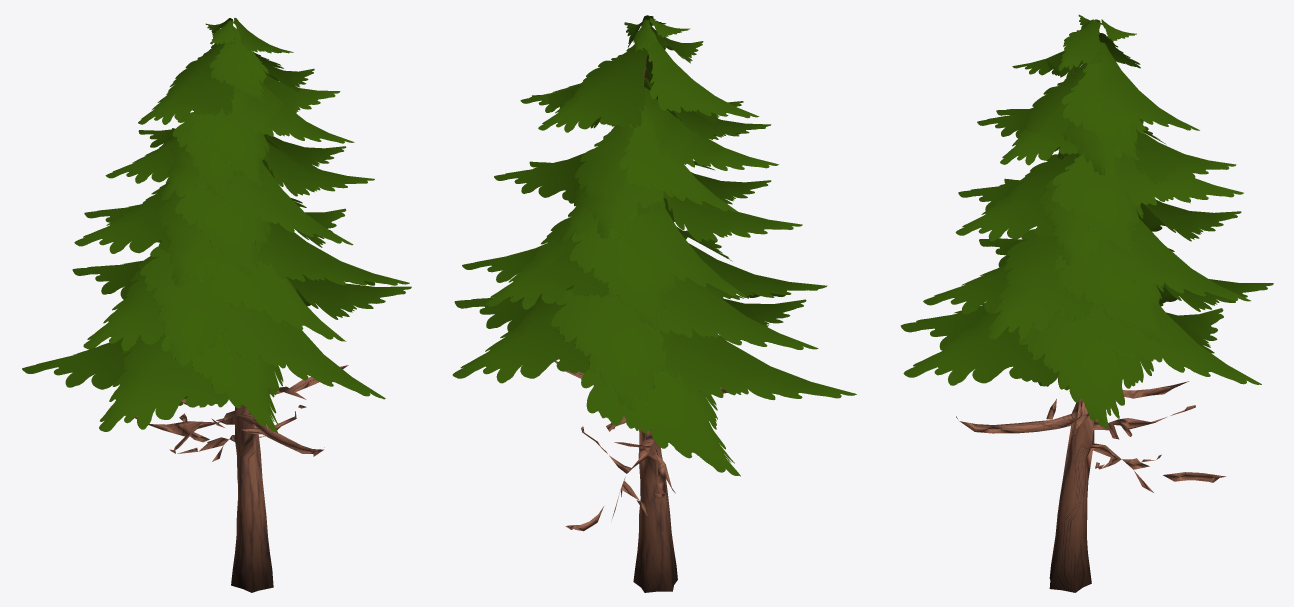
Rendered from tree-pine.glb.
The picture shows the model from 3 angles, left to right: view 1: azimuth 30°, elevation 25°; view 2: azimuth 150°, elevation 25°; view 3: azimuth 270°, elevation 25°; orthographic projection. The views are drawn at different scales.
Visible parts, largest first — view 1: Pine_1; view 2: Pine_1; view 3: Pine_1.
Boxes of the visible parts, x1,y1,x2,y2 form: Pine_1: (22,18,411,592); Pine_1: (452,15,856,592); Pine_1: (900,14,1273,592).
Bounding box in the file's own units: 4.94 × 7.32 × 4.54.
2 materials, 2 textured.
